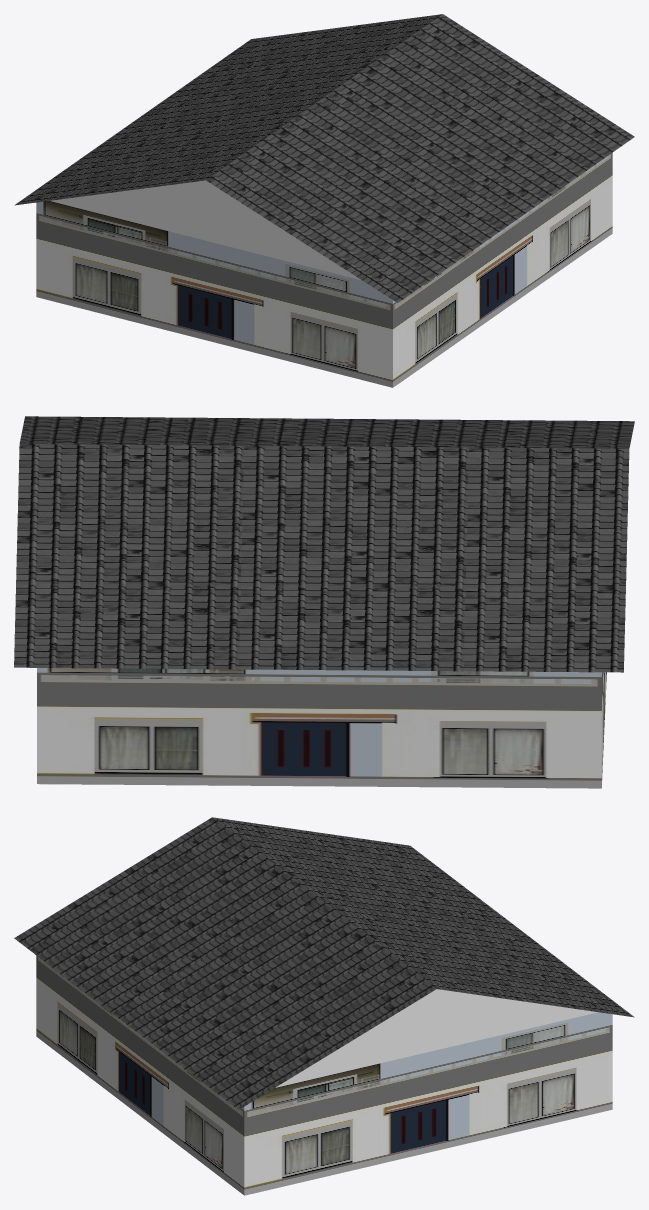
3 renders of one model, top to bottom at view 1: azimuth 30°, elevation 25°; view 2: azimuth 150°, elevation 25°; view 3: azimuth 270°, elevation 25°, orthographic. The views are drawn at different scales.
Parts seen in each view (by area): view 1: CityEngineMaterial_8_m, CityEngineMaterial_7_m, CityEngineMaterial_3_m; view 2: CityEngineMaterial_8_m, CityEngineMaterial_7_m; view 3: CityEngineMaterial_8_m, CityEngineMaterial_7_m, CityEngineMaterial_3_m.
Part boxes in pixels (x1=…): CityEngineMaterial_8_m: x1=14, y1=14, x2=634, y2=302; CityEngineMaterial_7_m: x1=36, y1=153, x2=612, y2=387; CityEngineMaterial_3_m: x1=50, y1=180, x2=361, y2=280; CityEngineMaterial_8_m: x1=14, y1=416, x2=634, y2=672; CityEngineMaterial_7_m: x1=37, y1=668, x2=606, y2=788; CityEngineMaterial_8_m: x1=14, y1=817, x2=634, y2=1109; CityEngineMaterial_7_m: x1=36, y1=955, x2=612, y2=1195; CityEngineMaterial_3_m: x1=275, y1=989, x2=597, y2=1087.
Size of the model in its own units: 36.54 by 10.96 by 36.27.
